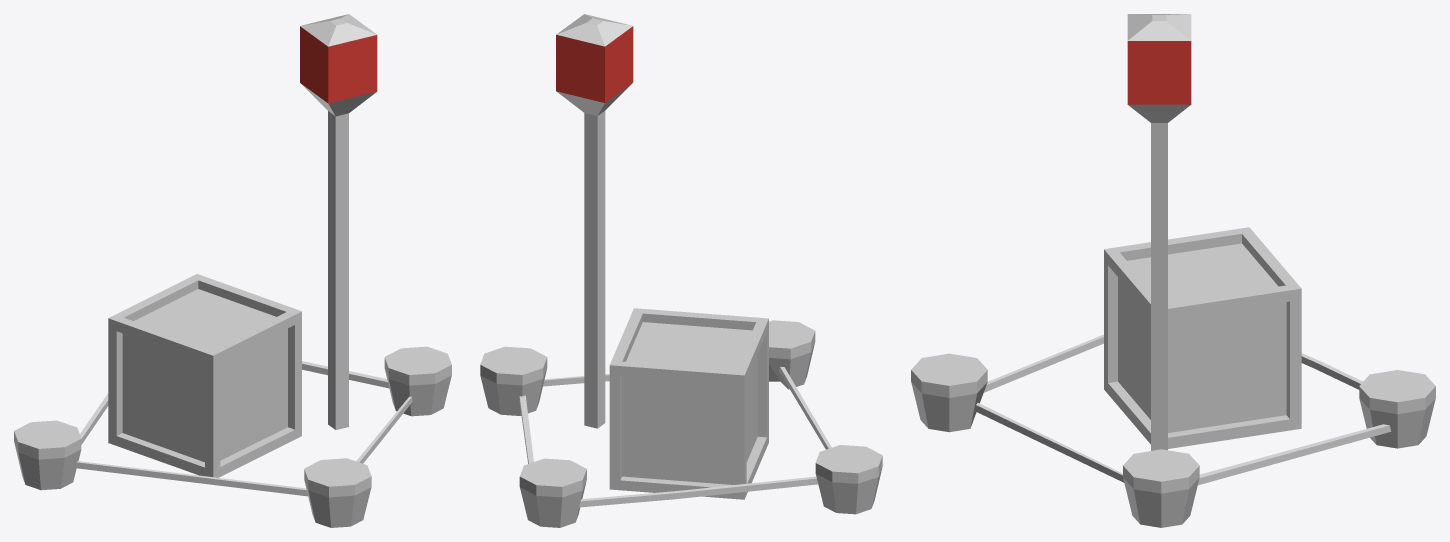
The model's file is tower-construction_00.fbx.
The picture shows the model from 3 angles, left to right: view 1: azimuth 30°, elevation 25°; view 2: azimuth 150°, elevation 25°; view 3: azimuth 270°, elevation 25°; orthographic projection. The views are drawn at different scales.
Visible parts, largest first — view 1: Tower-Construction_00; view 2: Tower-Construction_00; view 3: Tower-Construction_00.
Boxes of the visible parts, bbox=[...] form: Tower-Construction_00: bbox=[14, 14, 451, 527]; Tower-Construction_00: bbox=[480, 14, 882, 527]; Tower-Construction_00: bbox=[911, 14, 1435, 527].
Bounding box in the file's own units: 467 × 437 × 458.
